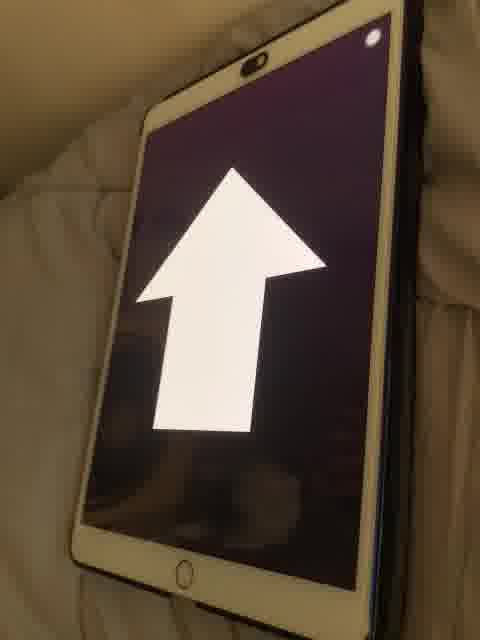up: (135, 161, 327, 434)
